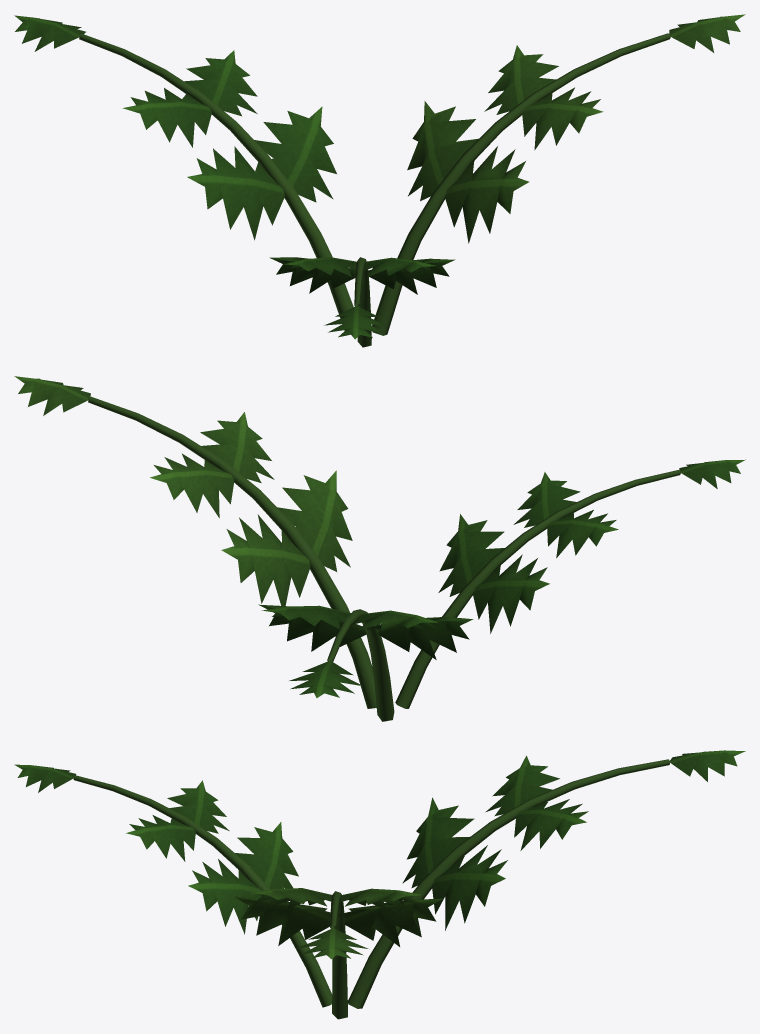
The model's file is CarrotSeedling.fbx.
3 renders of one model, top to bottom at view 1: azimuth 30°, elevation 25°; view 2: azimuth 150°, elevation 25°; view 3: azimuth 270°, elevation 25°, orthographic. The views are drawn at different scales.
Visible parts, largest first — view 1: CarrotSeedling_LOD0; view 2: CarrotSeedling_LOD0; view 3: CarrotSeedling_LOD0.
Part boxes in pixels (x1,y1,x2,y2): CarrotSeedling_LOD0: (14,14,745,347); CarrotSeedling_LOD0: (14,376,745,721); CarrotSeedling_LOD0: (14,750,745,1019).
Size of what is drawn, in the model's own units: 0.1753 by 0.0713 by 0.2061.
